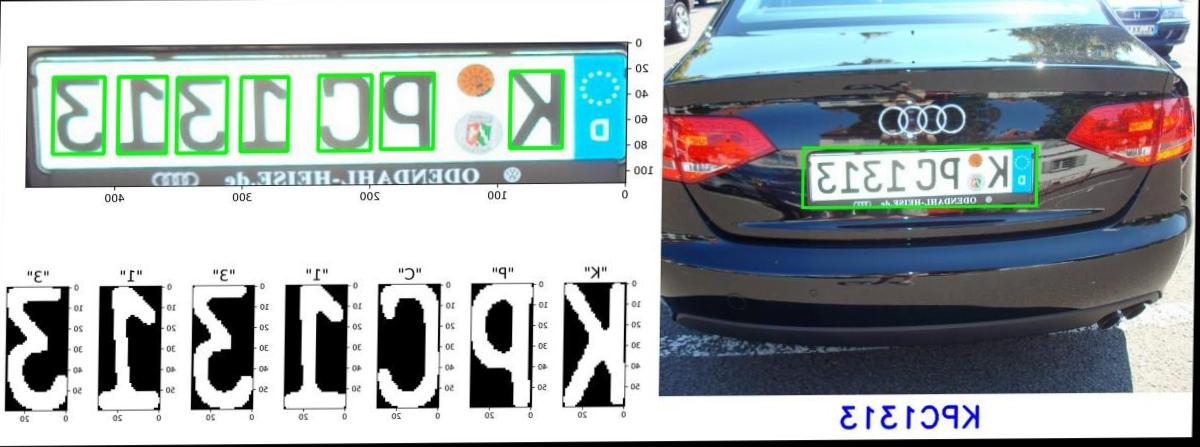License_Plate: (39, 45, 625, 179), (808, 145, 1033, 207)
